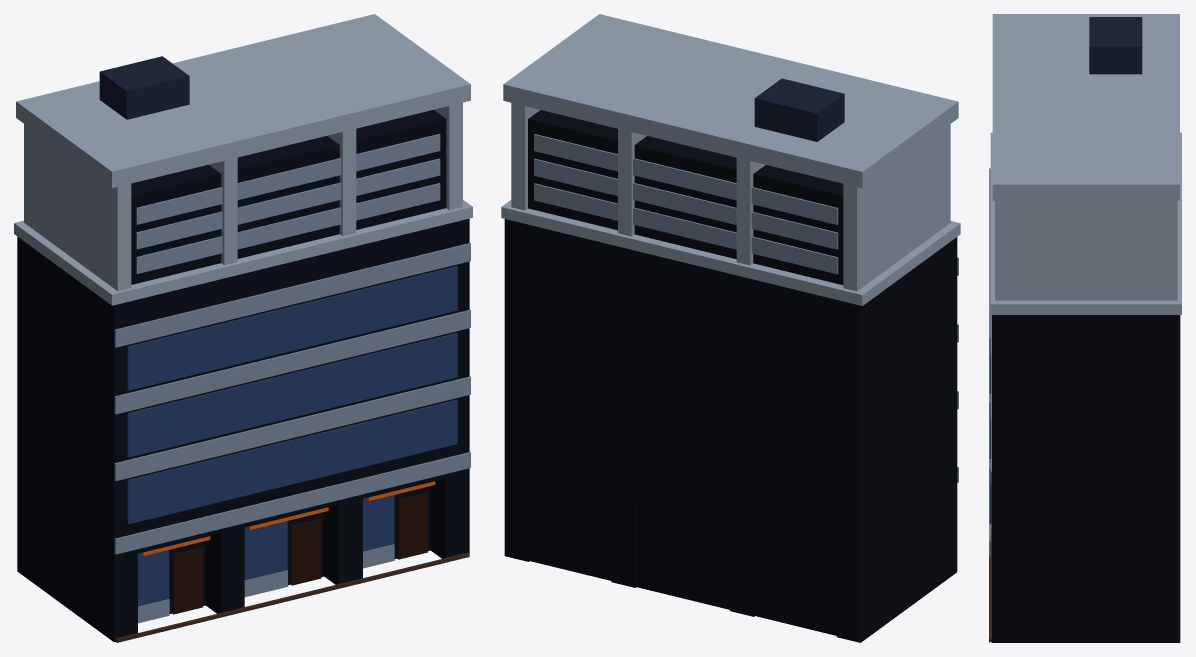
The model's file is tradetower5.obj.
The picture shows the model from 3 angles, left to right: view 1: azimuth 30°, elevation 25°; view 2: azimuth 150°, elevation 25°; view 3: azimuth 270°, elevation 25°; orthographic projection. The views are drawn at different scales.
Visible parts, largest first — view 1: shaft-glazing, shaft, crown-cap, base-piers, spandrels, crown-piers, crown, crown-louvres, shaft-cap, transom, shop-doors, shopfronts (+6 smaller); view 2: shaft, crown-cap, base-back, base-piers, crown-piers, crown, crown-louvres, shaft-cap, base-heads, roof-plant; view 3: shaft, crown-cap, base-piers, crown-piers, shaft-cap, roof-plant, spandrels, shaft-glazing, pavement.
Part boxes in pixels (bbox=[...]): shaft-glazing: bbox=[127, 266, 457, 524]; shaft: bbox=[17, 218, 469, 538]; crown-cap: bbox=[16, 14, 470, 187]; base-piers: bbox=[17, 451, 469, 641]; spandrels: bbox=[114, 243, 470, 481]; crown-piers: bbox=[24, 102, 462, 290]; crown: bbox=[131, 110, 446, 284]; crown-louvres: bbox=[136, 134, 440, 273]; shaft-cap: bbox=[14, 200, 472, 305]; transom: bbox=[114, 452, 470, 554]; shop-doors: bbox=[172, 493, 427, 614]; shopfronts: bbox=[138, 495, 394, 606]; shaft: bbox=[504, 219, 957, 538]; crown-cap: bbox=[503, 14, 958, 188]; base-back: bbox=[530, 458, 836, 635]; base-piers: bbox=[504, 452, 957, 642]; crown-piers: bbox=[511, 103, 950, 291]; crown: bbox=[528, 110, 843, 284]; crown-louvres: bbox=[534, 134, 838, 274]; shaft-cap: bbox=[501, 200, 960, 305]; base-heads: bbox=[529, 460, 836, 554]; roof-plant: bbox=[754, 78, 844, 141]; shaft: bbox=[992, 315, 1180, 541]; crown-cap: bbox=[992, 14, 1179, 200]; base-piers: bbox=[992, 541, 1180, 642]; crown-piers: bbox=[995, 200, 1177, 300]; shaft-cap: bbox=[990, 132, 1181, 314]; roof-plant: bbox=[1089, 17, 1142, 74]; spandrels: bbox=[989, 168, 990, 484]; shaft-glazing: bbox=[989, 315, 991, 523]; pavement: bbox=[989, 471, 991, 642].
Size of the model in its own units: 6.9 by 9.12 by 3.27.
